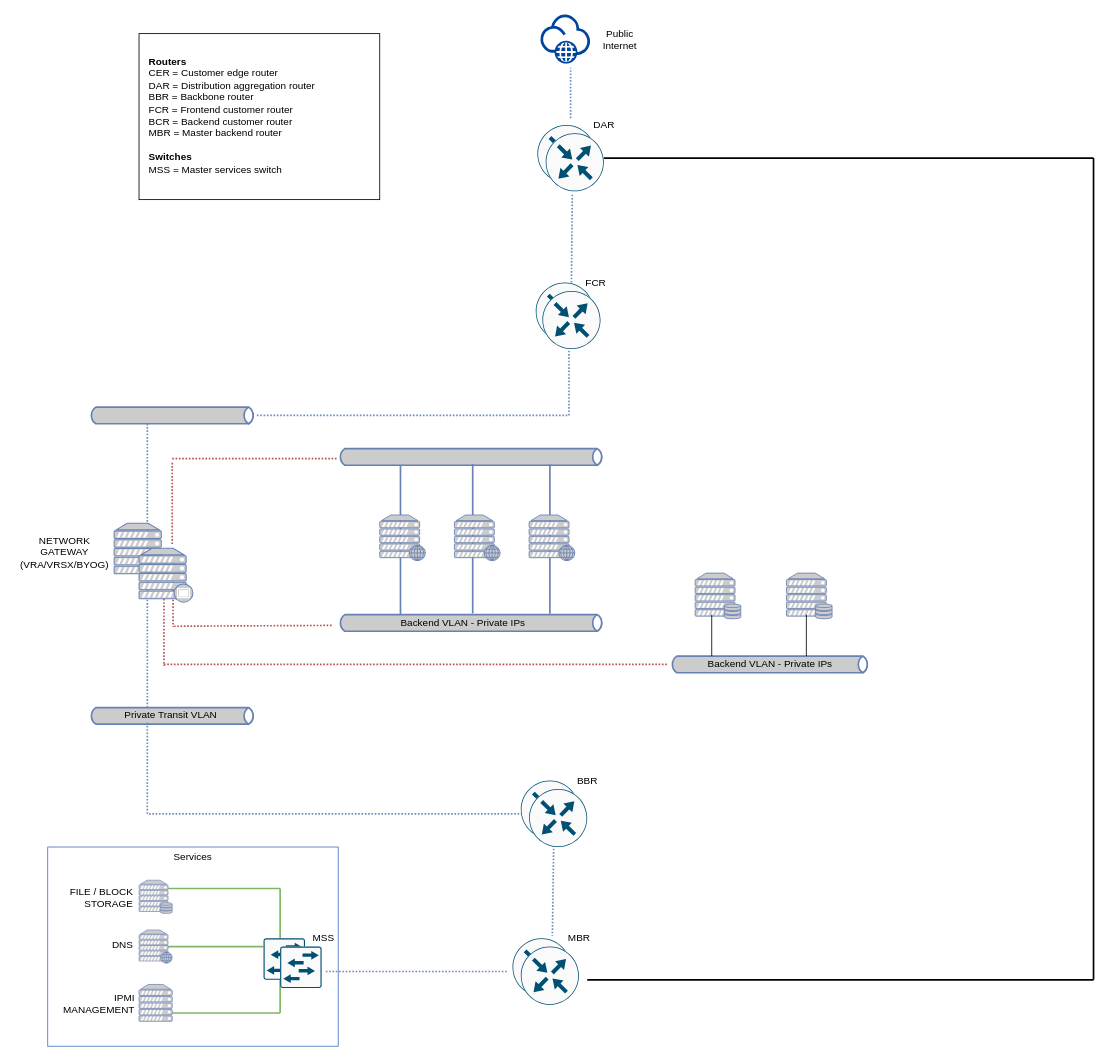
Some shapes in this 1109 by 1061 pixel diagram are drawn without their labels. The shapes that lost their labels are listed below. From the top down, each one's centre as x and y in pixels, then its label:
[172,415]: Public Transit VLAN
[470,456]: Frontend VLAN - Public IPs
